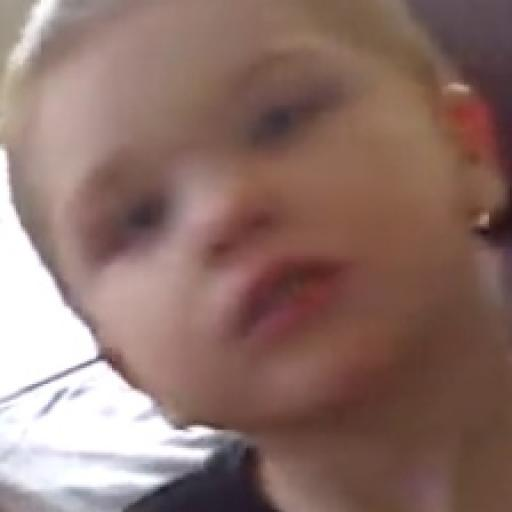Autism: (22, 17, 512, 417)
